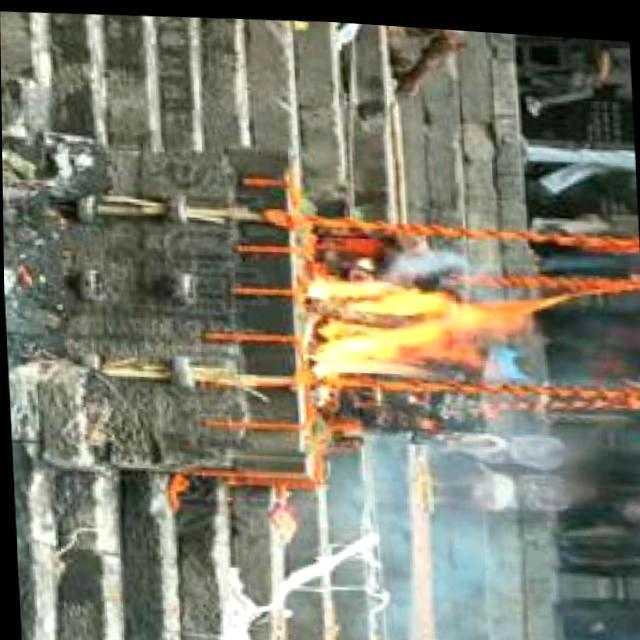fire: (296, 258, 542, 389)
